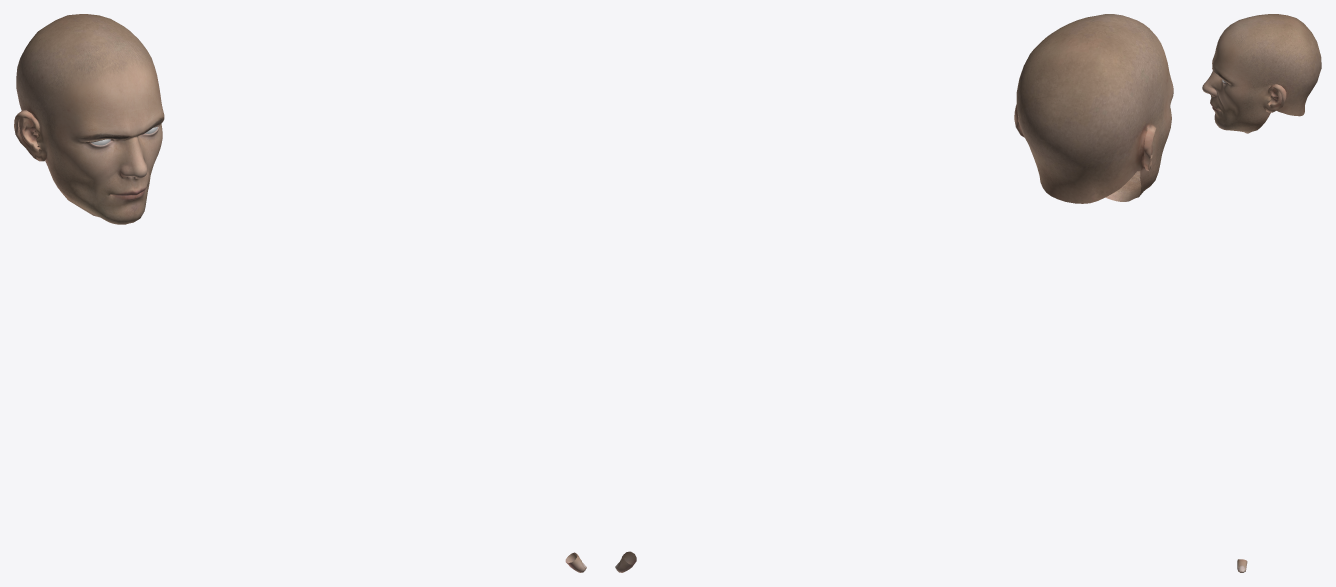
File: Old.obj
3 views of the same model, side by side, from view 1: azimuth 30°, elevation 25°; view 2: azimuth 150°, elevation 25°; view 3: azimuth 270°, elevation 25° (orthographic). The views are drawn at different scales.
Parts seen in each view (by area): view 1: Head; view 2: Head; view 3: Head.
Part boxes in pixels (x1,y1,x2,y2): Head: [14, 14, 164, 224]; Head: [1014, 14, 1173, 203]; Head: [1202, 14, 1321, 133].
Size of the model in its own units: 77.1 by 88.43 by 23.38.
